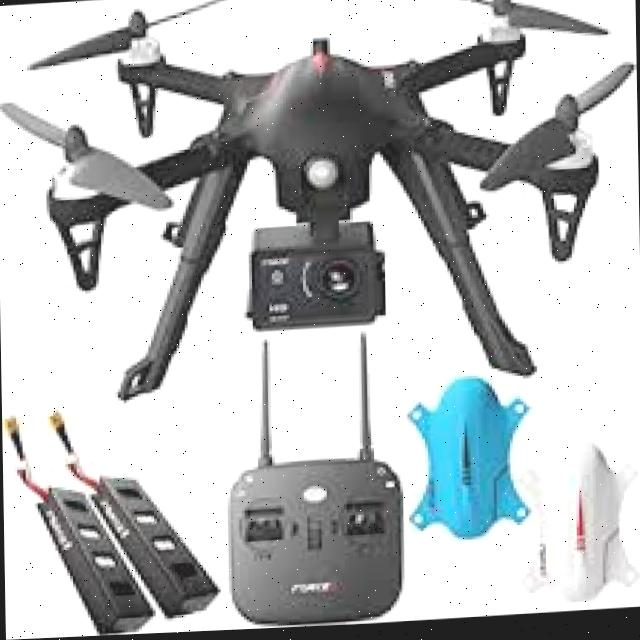drone: (0, 0, 638, 441)
